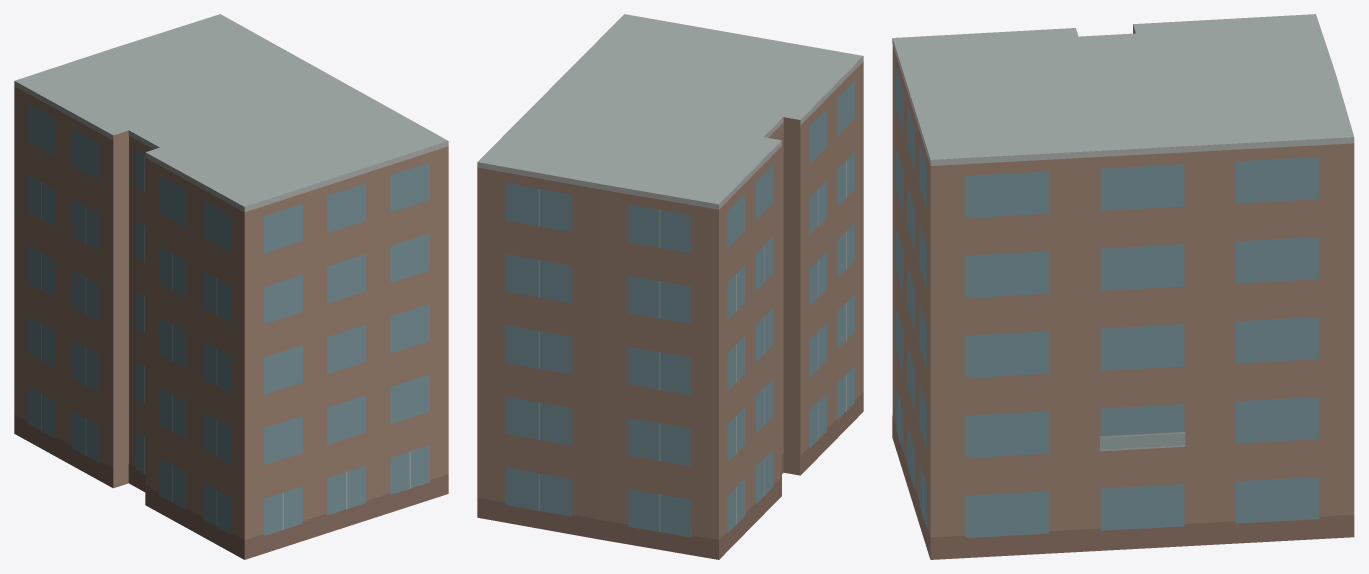
Rendered from survey-upis-32932991.glb.
3 renders of one model, left to right at view 1: azimuth 30°, elevation 25°; view 2: azimuth 150°, elevation 25°; view 3: azimuth 270°, elevation 25°, orthographic. The views are drawn at different scales.
Parts seen in each view (by area): view 1: survey-upis-32932991.tmp; view 2: survey-upis-32932991.tmp; view 3: survey-upis-32932991.tmp.
Part boxes in pixels (box(x1,y1,x2,y2)): survey-upis-32932991.tmp: box(14, 14, 448, 559); survey-upis-32932991.tmp: box(477, 14, 863, 559); survey-upis-32932991.tmp: box(892, 14, 1354, 559).
Size of the model in its own units: 12.57 by 16.05 by 16.81.
